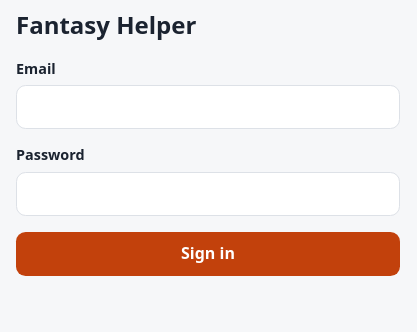
it: sign-in with a password › says plainly when the email and password do not match, and lets you try again
Type "me@example.com" into the field labelled "Email" at (208,107), box [16,85,400,129]
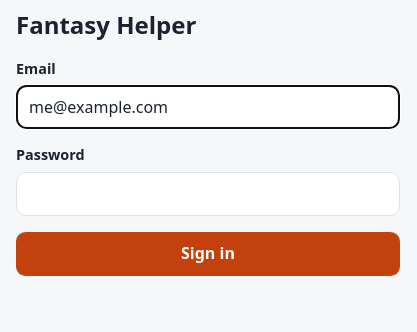
Type "wrong" into the password field labelled "Password" at (208,194), box [16,172,400,216]
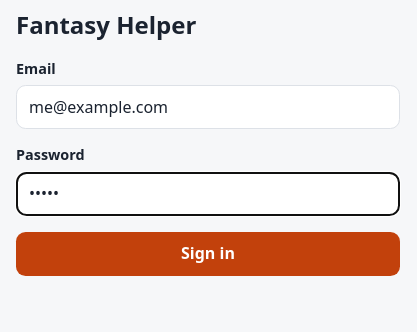
Click the button "Sign in" at (208,254), box [16,232,400,276]
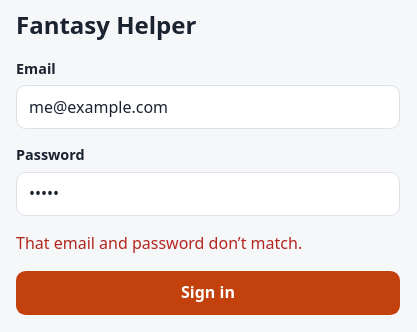
Expected: the button "Sign in" is enabled, [16,271,400,315]
Expected: the message reads "That email and password don’t match.", [16,232,302,254]
